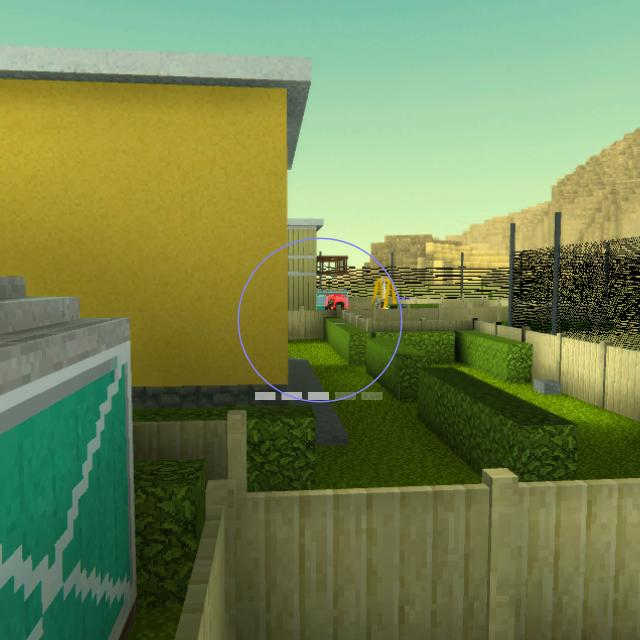Enemy: (324, 299, 335, 310), (336, 301, 347, 309)
